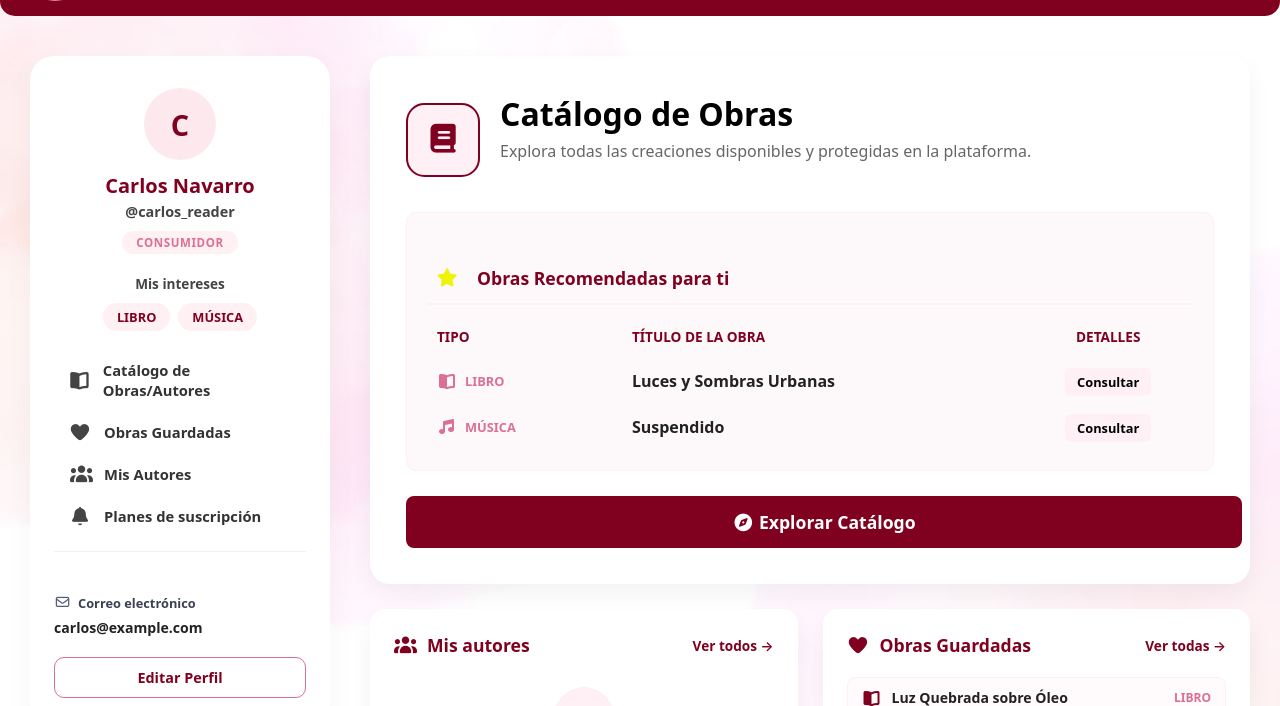
it: Panel Principal › Vista de Consumidor › permite editar el perfil del consumidor
This screenshot has width=1280, height=706.
Click the button with class "btn-outline-edit": [180, 678] box [54, 657, 306, 698]
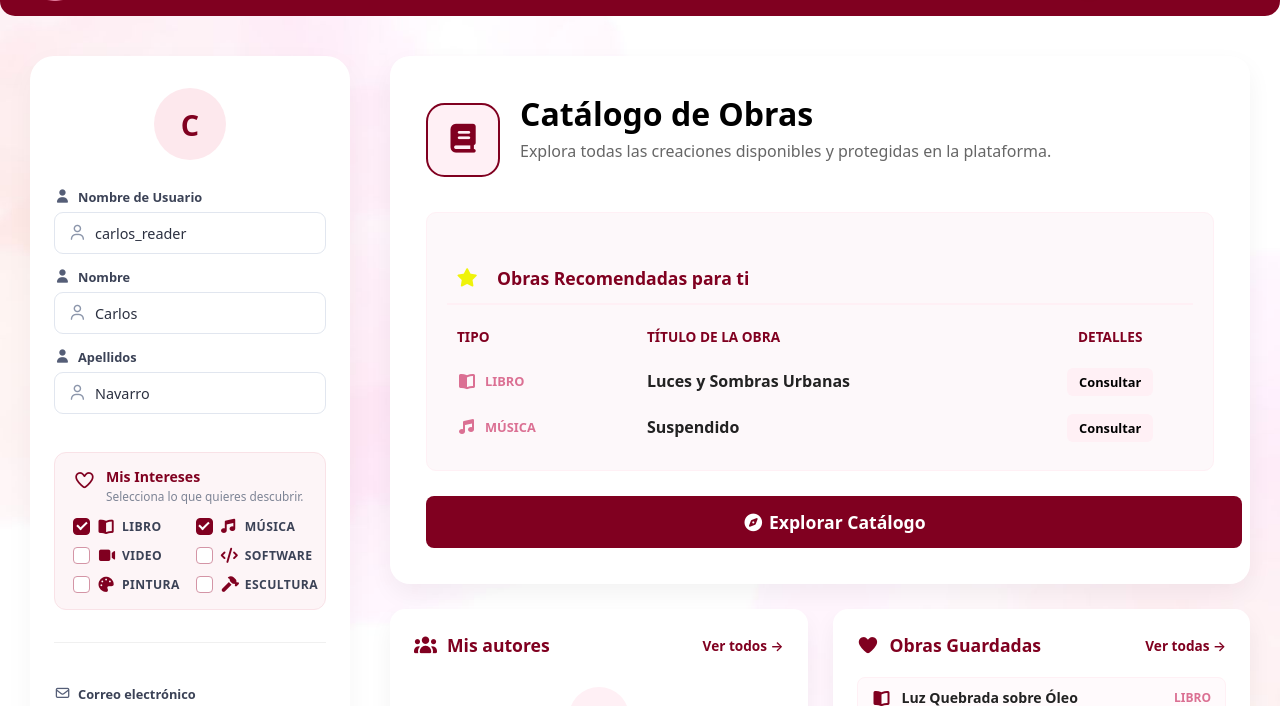
Replace the text in the 2nd field with placeholder "Nombre" with "Carlos López": [190, 313] box [54, 292, 326, 334]
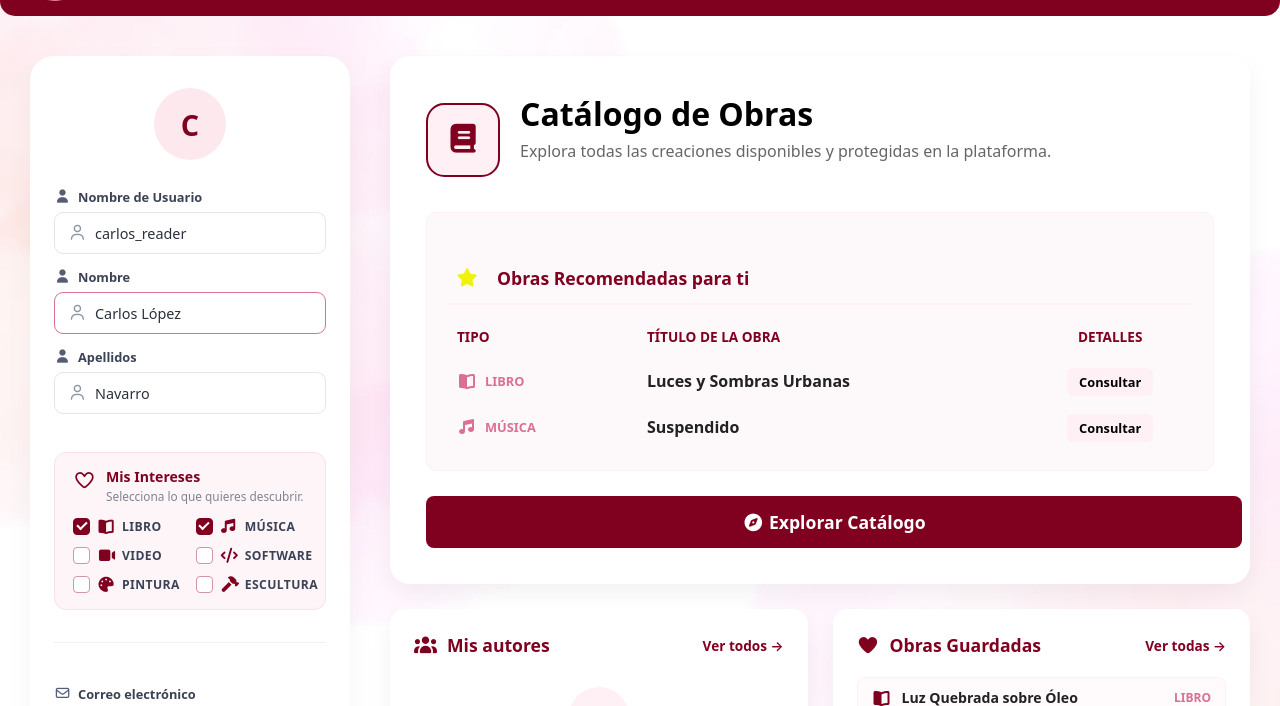
Click the text "VIDEO": [142, 555] box [73, 547, 162, 564]
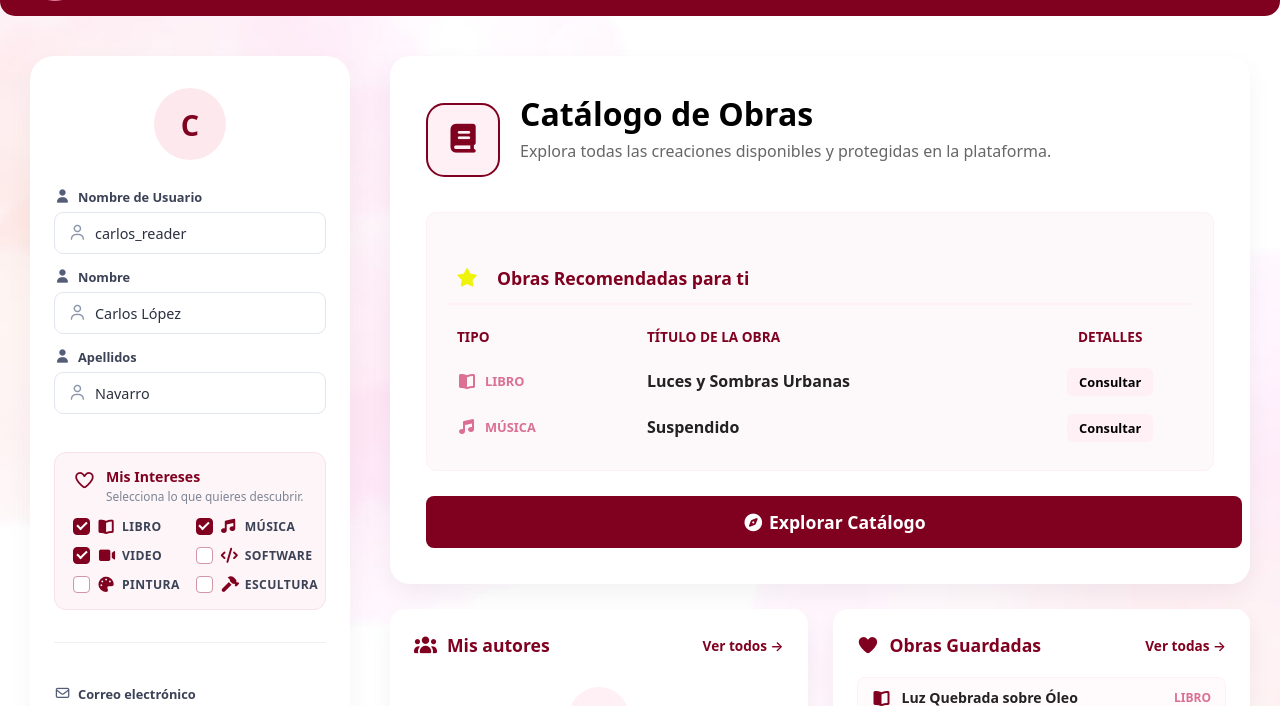
Scroll
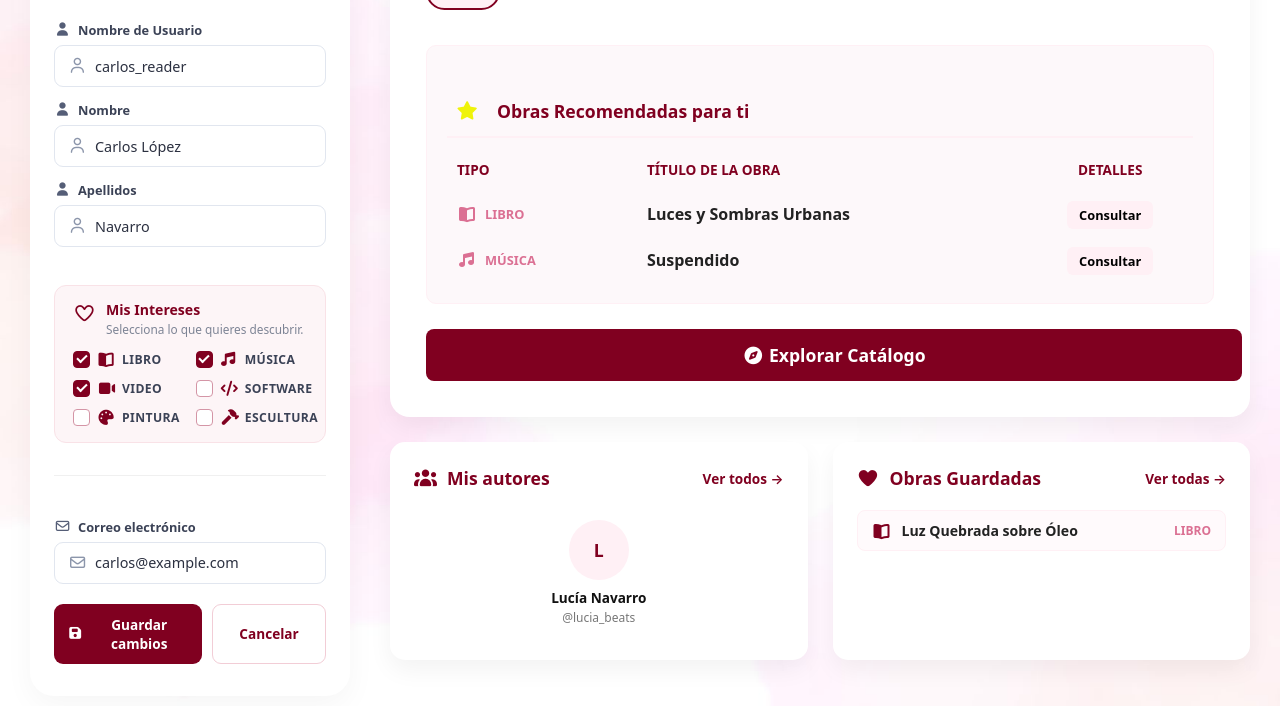
Click the button with class "btn-save-action": [128, 634] box [54, 604, 202, 664]
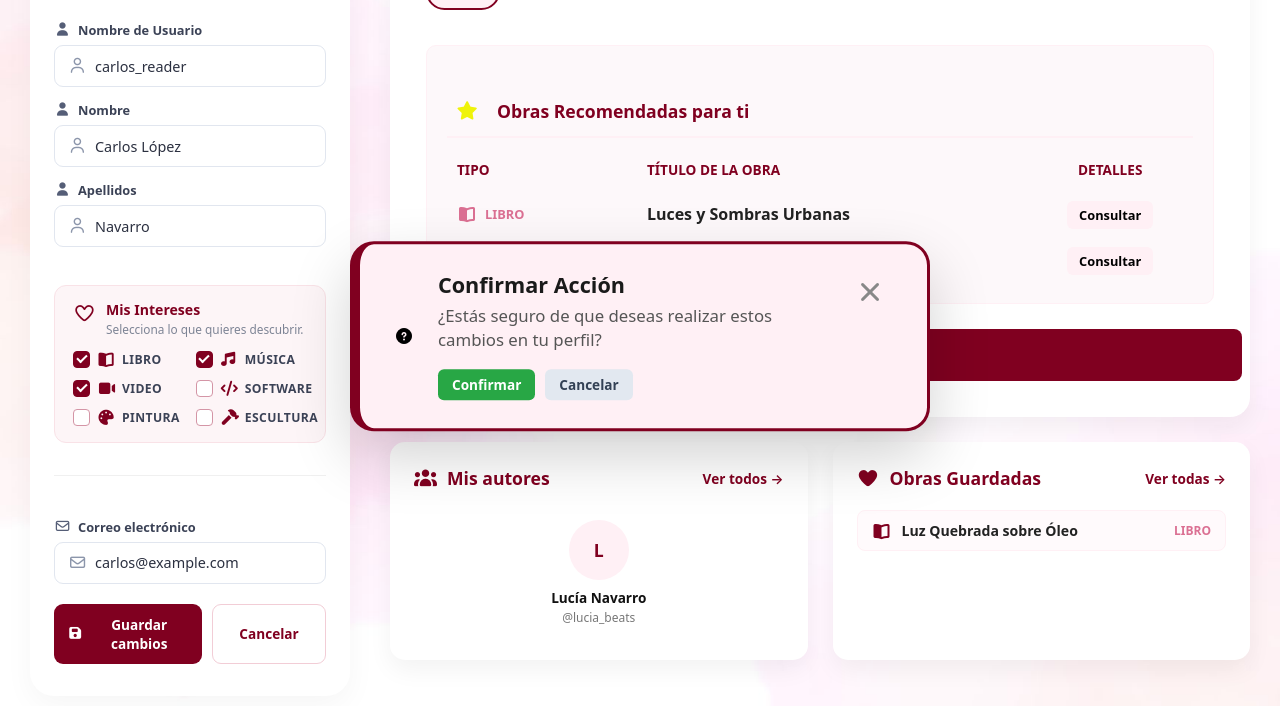
Now the element that starts with "Confirmar Acción" is shown, box [350, 241, 930, 431]
Click the button with class "btn-confirm": [487, 385] box [438, 369, 535, 400]
(page scrolled)
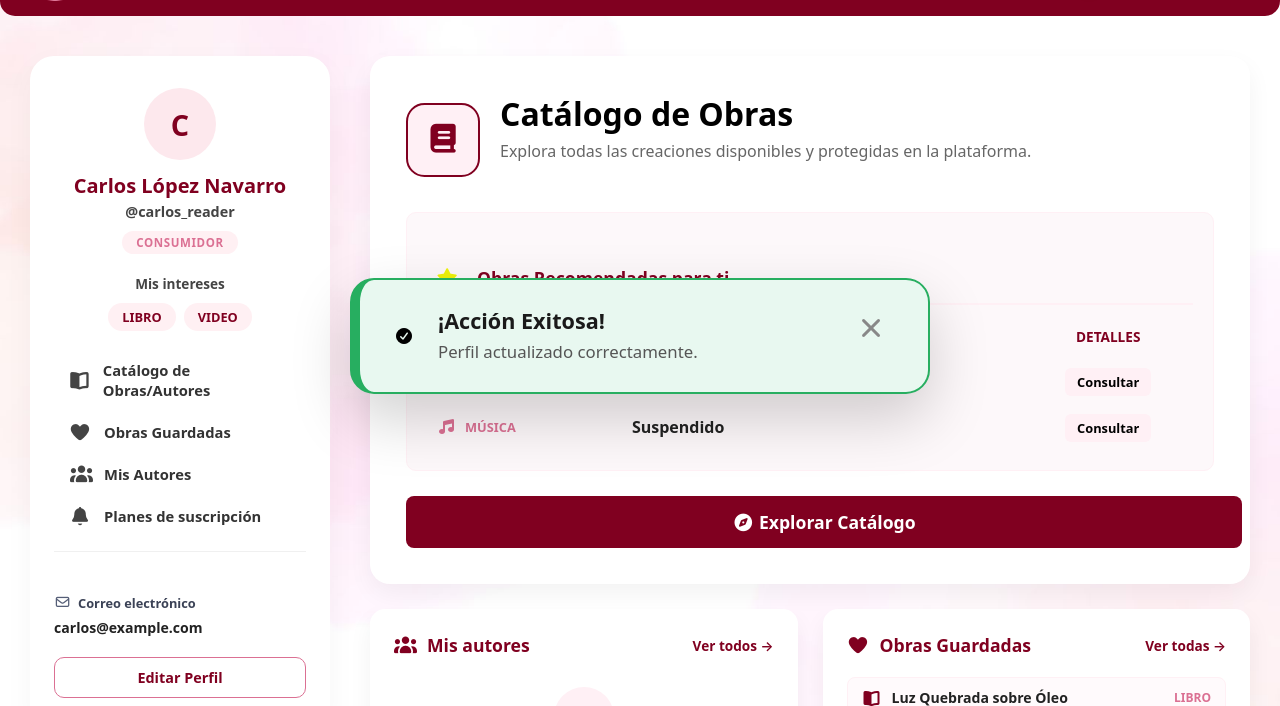
Now the heading "Carlos López Navarro" is shown, box [74, 174, 286, 198]
